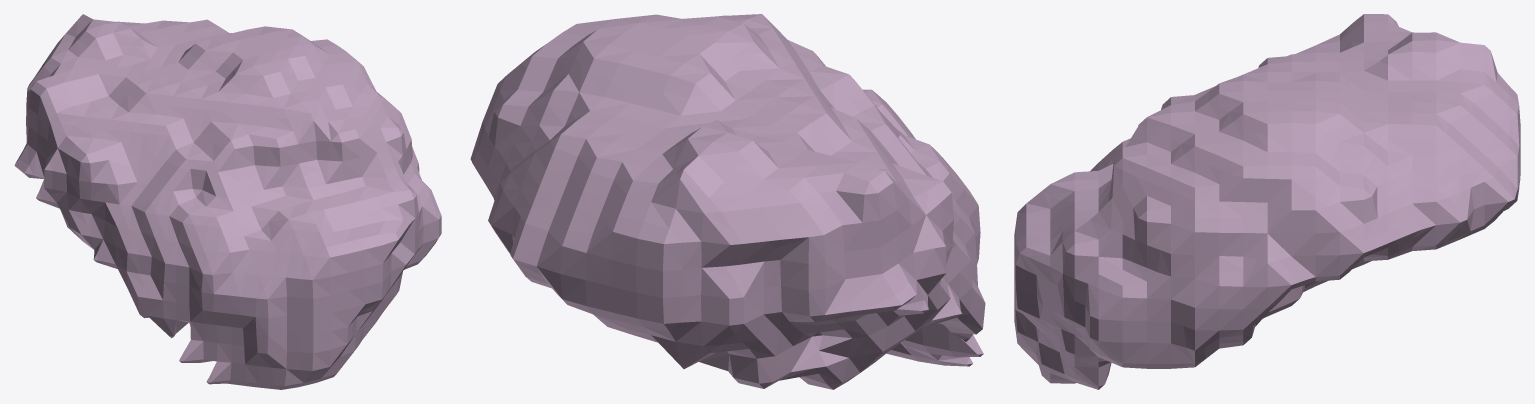
The model's file is l_amygdala.glb.
3 views of the same model, side by side, from view 1: azimuth 30°, elevation 25°; view 2: azimuth 150°, elevation 25°; view 3: azimuth 270°, elevation 25° (orthographic). The views are drawn at different scales.
Visible parts, largest first — view 1: world; view 2: world; view 3: world.
Part boxes in pixels (x1,y1,x2,y2): world: [14, 14, 441, 389]; world: [470, 14, 985, 389]; world: [1014, 14, 1520, 389].
Size of the model in its own units: 18.78 by 14 by 21.
